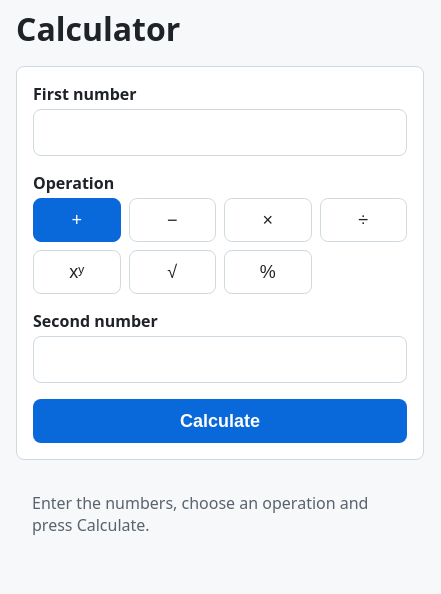
App › calculates and shows the result
The image size is (441, 594).
Click the button named "Divide" at (363, 220), box [320,198,407,242]
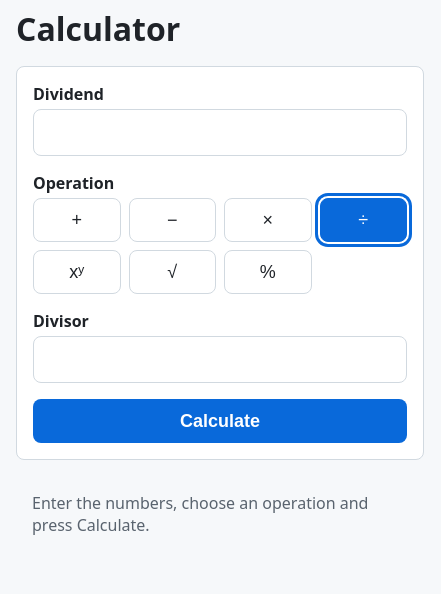
Type "10" into the field labelled "Dividend" at (220, 132), box [33,109,407,156]
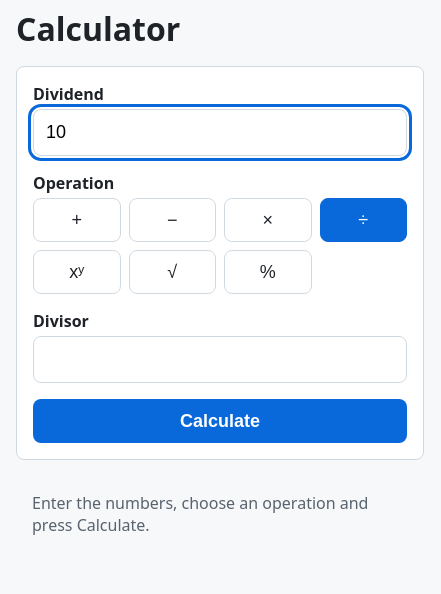
Type "4" into the field labelled "Divisor" at (220, 360), box [33,336,407,383]
Then press Enter
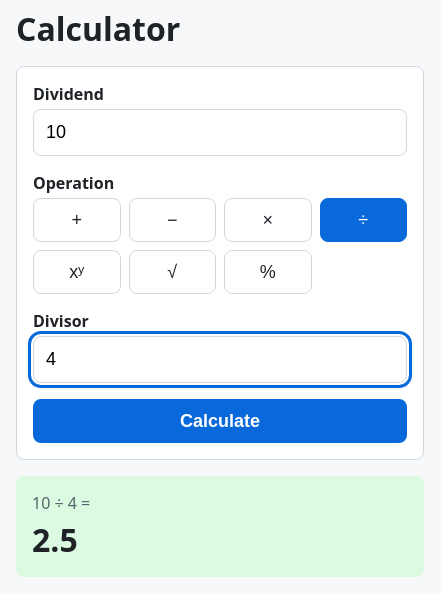
Result: the message reads "10 ÷ 4 = 2.5" at [16,476,424,577]
